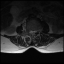CCS_normal: (31, 28, 33, 37)
LFS_normal: (35, 27, 38, 34)
LLS_normal: (33, 27, 35, 36)
RFS_normal: (27, 27, 29, 34)
RLS_normal: (29, 27, 31, 36)
